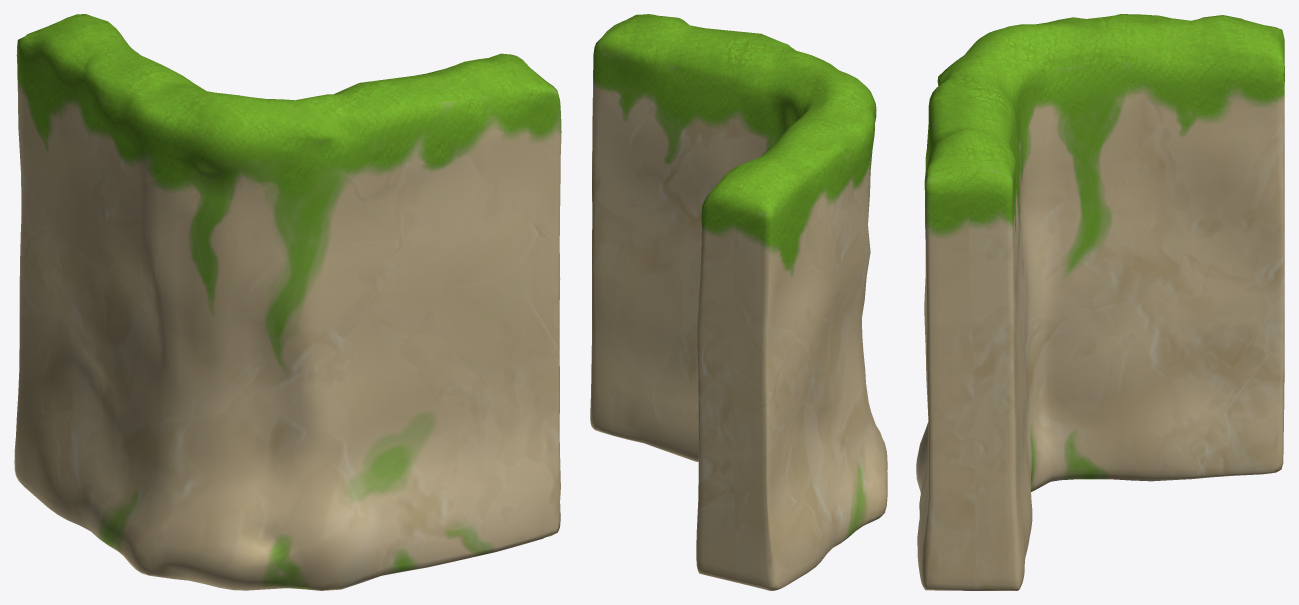
Rendered from Corner Wall F.fbx.
3 renders of one model, left to right at view 1: azimuth 30°, elevation 25°; view 2: azimuth 150°, elevation 25°; view 3: azimuth 270°, elevation 25°, orthographic. The views are drawn at different scales.
Parts seen in each view (by area): view 1: Corner_Wall_Low; view 2: Corner_Wall_Low; view 3: Corner_Wall_Low.
Boxes of the visible parts, x1=… form: Corner_Wall_Low: x1=14, y1=14, x2=561, y2=590; Corner_Wall_Low: x1=590, y1=14, x2=887, y2=590; Corner_Wall_Low: x1=916, y1=14, x2=1284, y2=590.
Size of the model in its own units: 3.73 by 4.68 by 3.55.
